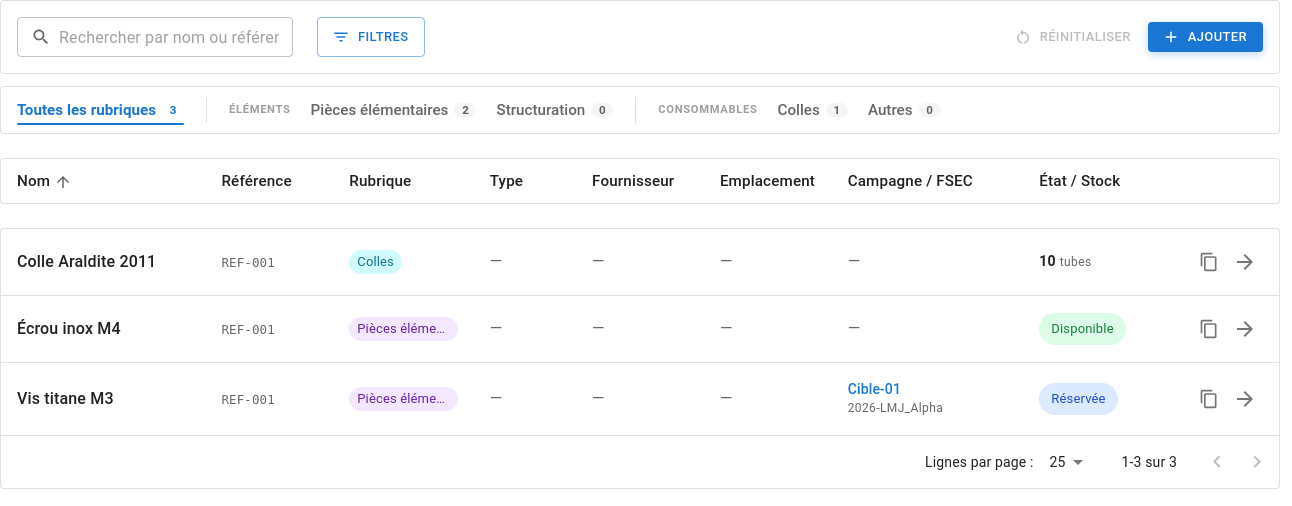
Test case: CatalogTab — compteurs de rubrique › garde les compteurs des autres rubriques quand une rubrique est sélectionnée
Expected: the text "Colle Araldite 2011" is shown, [17,252,156,271]
Click the button "Pièces élémentaires 2": (394,110) [311,97,476,123]
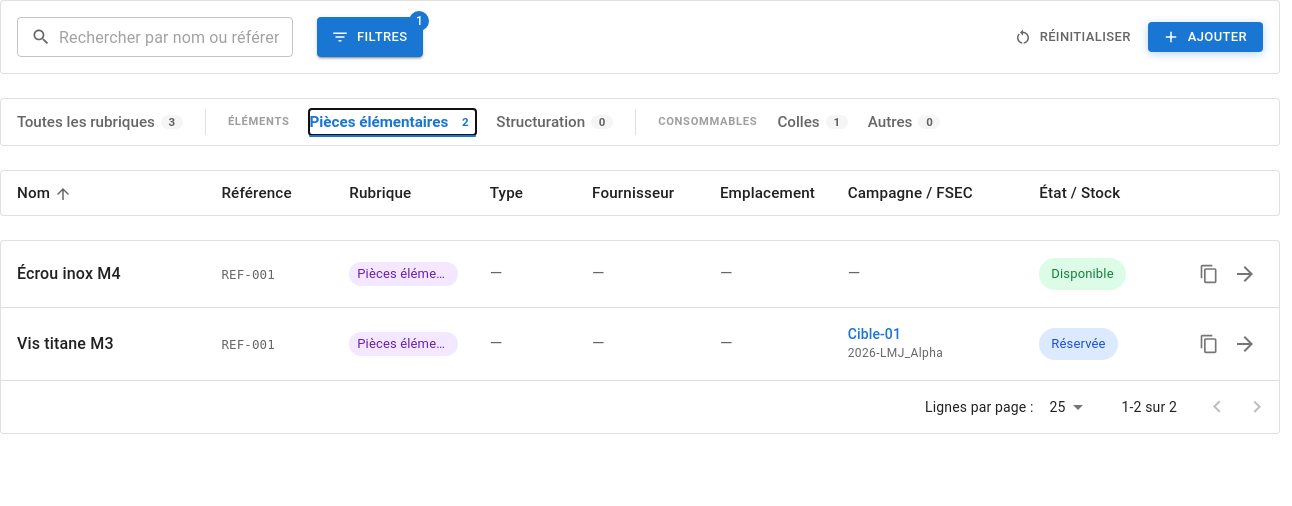
Expected: the text "Vis titane M3" is shown, [17,334,114,353]
Expected: the text "Colle Araldite 2011" is gone
